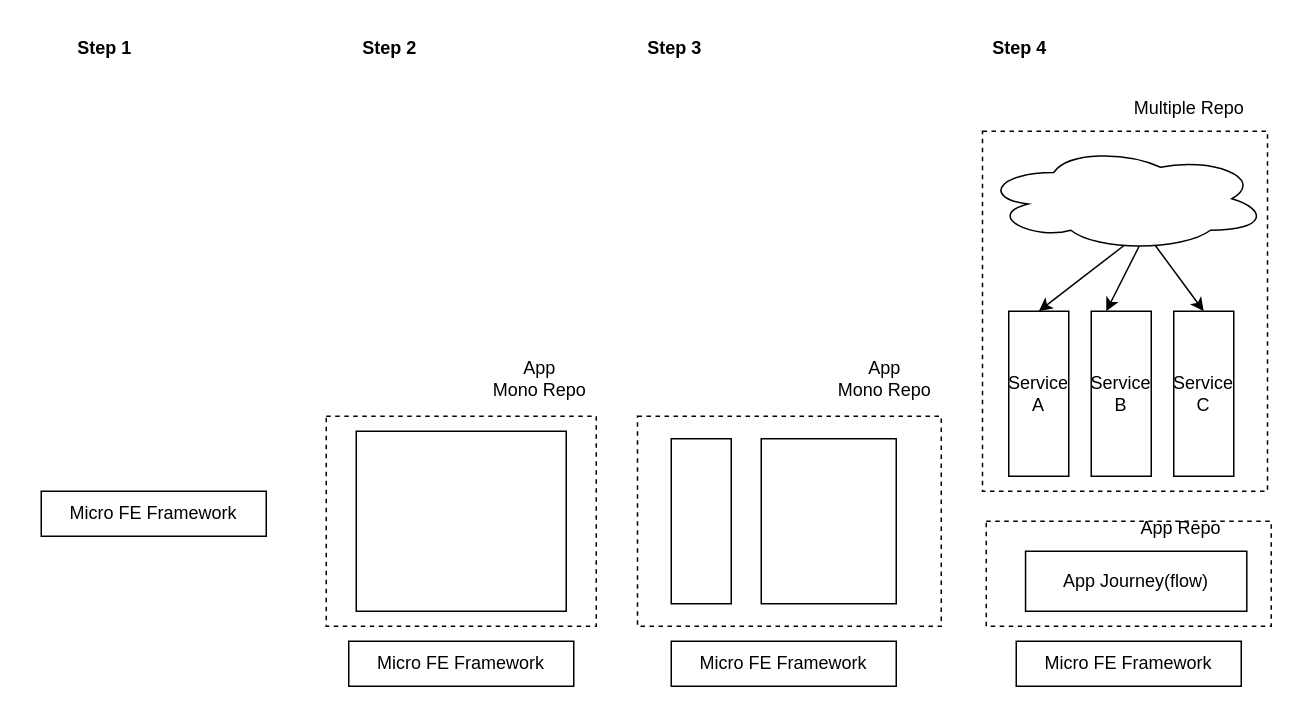
This 1298x713 diagram has some shape labels left out. Each missing label, with the centre of its shape:
"Mono App" goes at point 460,520.
"Mono App except Service A" goes at point 828,520.
"Remote Domain Repos" goes at point 1124,198.
"Service A (folder)" goes at point 700,520.
